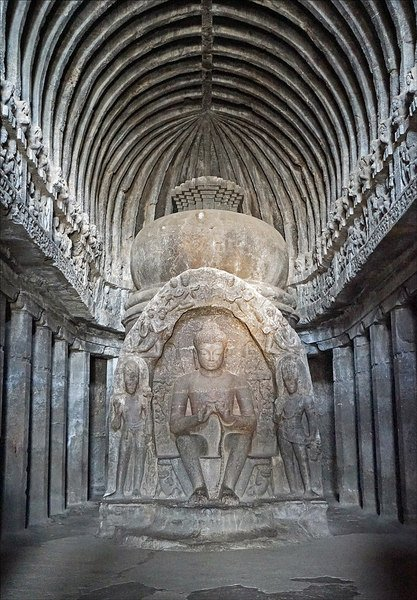Figure of Buddha, Ellora: (23, 15, 406, 586)
